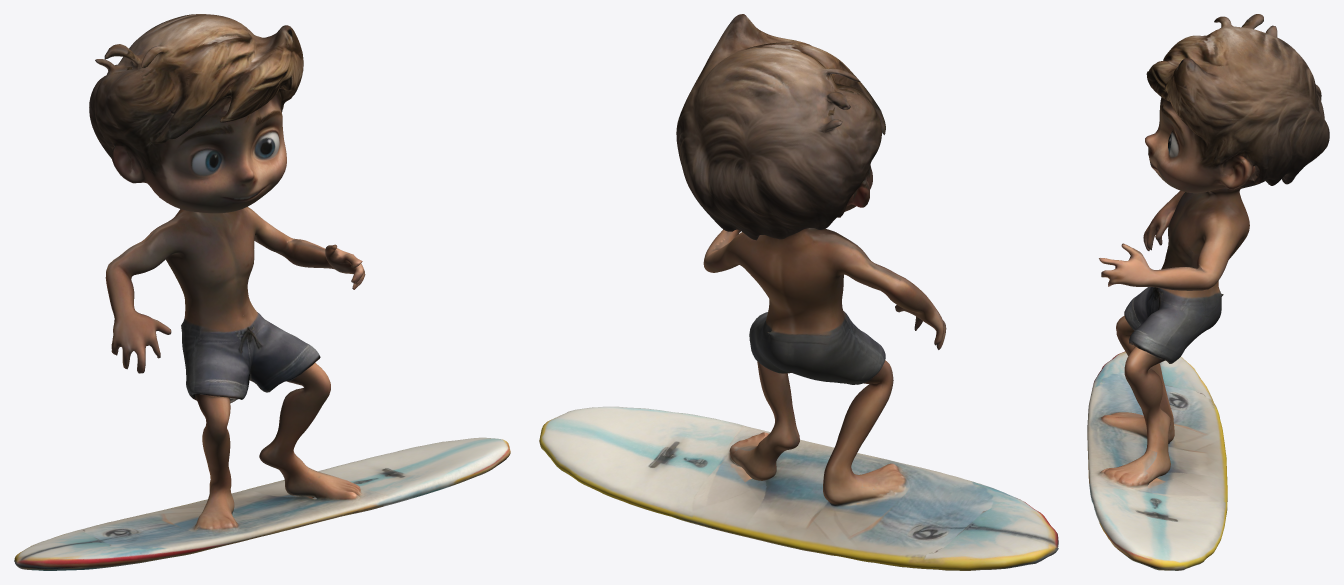
File: player.glb
3 renders of one model, left to right at view 1: azimuth 30°, elevation 25°; view 2: azimuth 150°, elevation 25°; view 3: azimuth 270°, elevation 25°, orthographic. The views are drawn at different scales.
Visible parts, largest first — view 1: Mesh_0; view 2: Mesh_0; view 3: Mesh_0.
Boxes of the visible parts, <box> form: Mesh_0: <box>14,14,510,570</box>; Mesh_0: <box>539,14,1058,570</box>; Mesh_0: <box>1087,14,1329,570</box>.
Bounding box in the file's own units: 2.46 × 2.29 × 1.15.
1 material, 1 textured.
